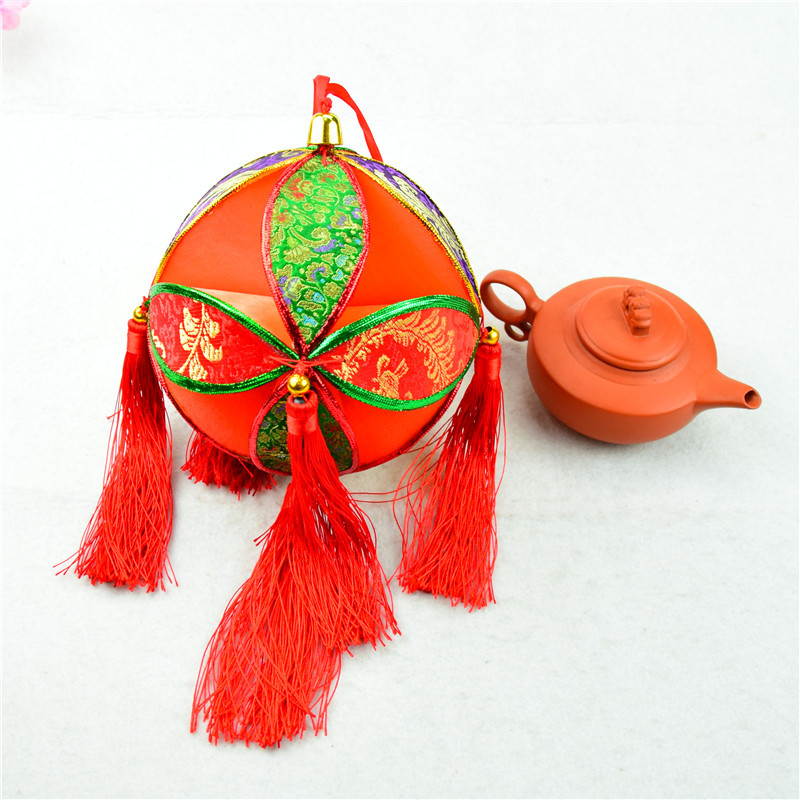xiuqiu: (145, 147, 479, 480)
